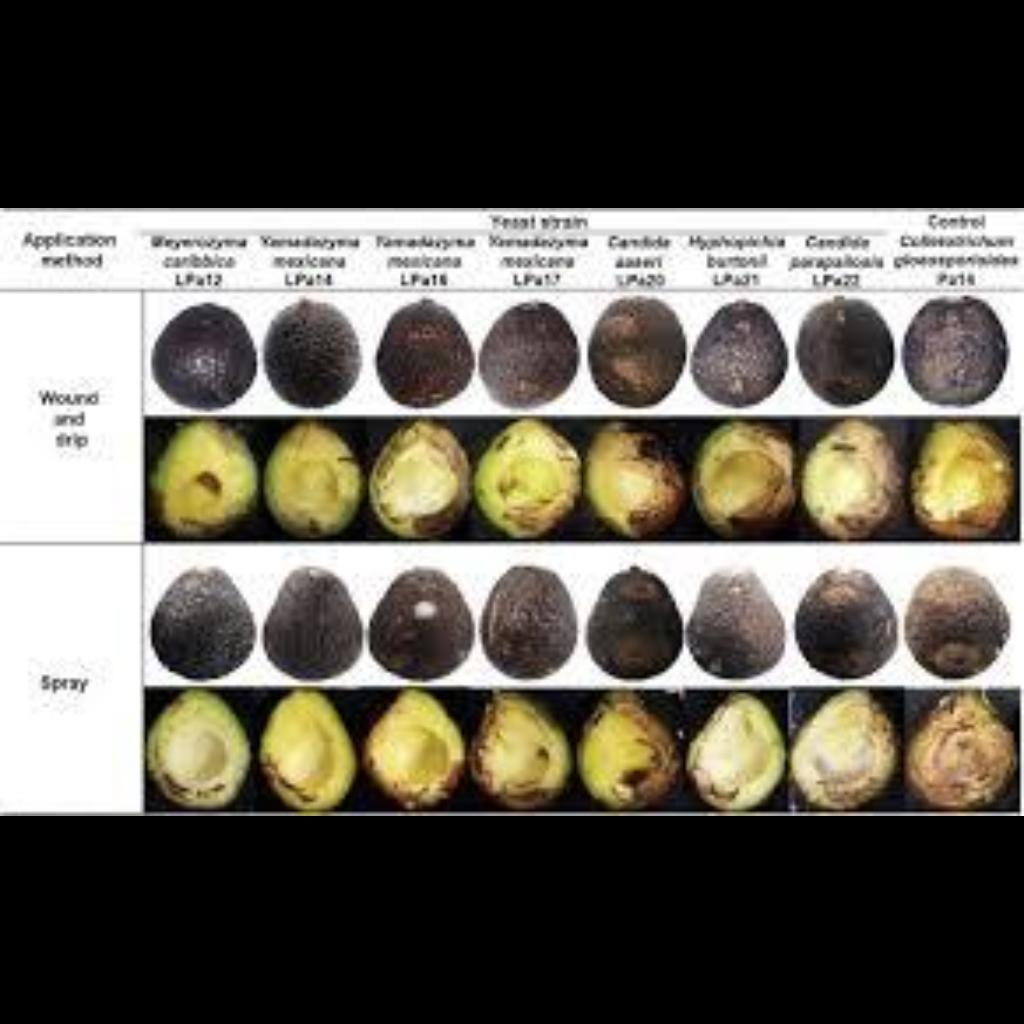Anthracnose: (151, 693, 1017, 813), (166, 562, 1006, 684), (250, 294, 1006, 404), (343, 424, 1015, 540)
